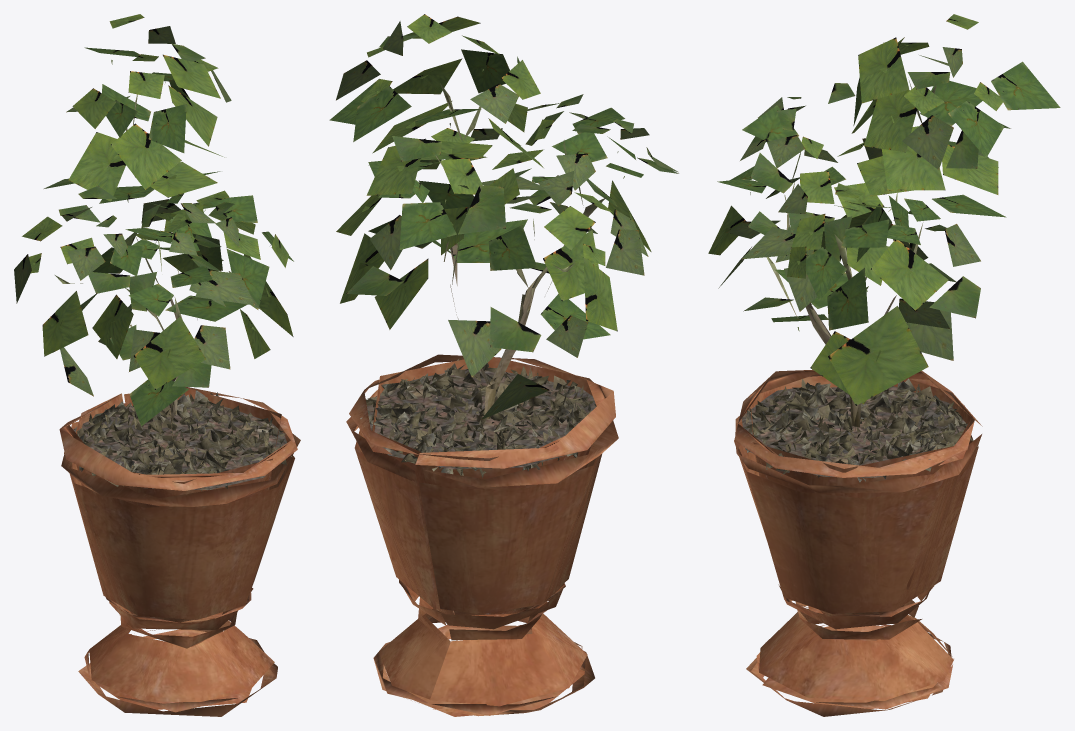
File: potted_plant_01.gltf
The picture shows the model from 3 angles, left to right: view 1: azimuth 30°, elevation 25°; view 2: azimuth 150°, elevation 25°; view 3: azimuth 270°, elevation 25°; orthographic projection. The views are drawn at different scales.
Visible parts, largest first — view 1: potted_plant_01; view 2: potted_plant_01; view 3: potted_plant_01.
Boxes of the visible parts, box(x1,y1,x2,y2) form: potted_plant_01: box(14, 14, 300, 716); potted_plant_01: box(329, 14, 678, 716); potted_plant_01: box(708, 14, 1060, 716).
Bounding box in the file's own units: 0.6026 × 1.34 × 0.6509.
1 material, 1 textured.
